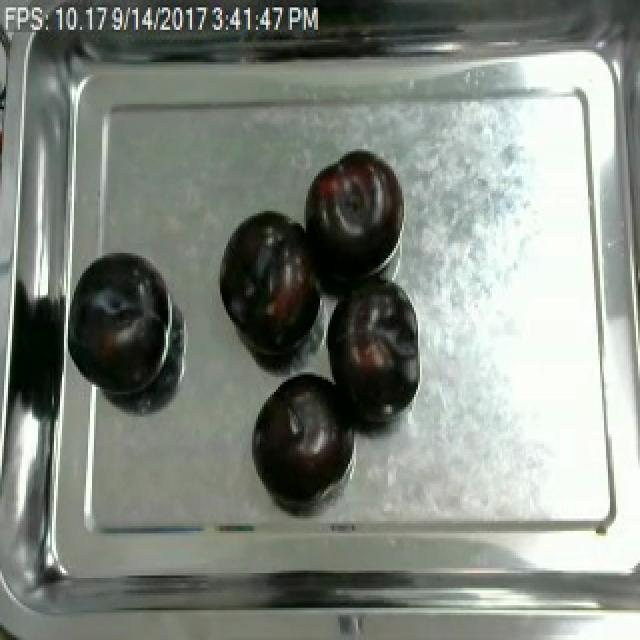Fruit: (64, 243, 178, 404), (214, 203, 324, 360), (298, 144, 408, 285), (322, 275, 420, 429), (246, 372, 352, 504)
